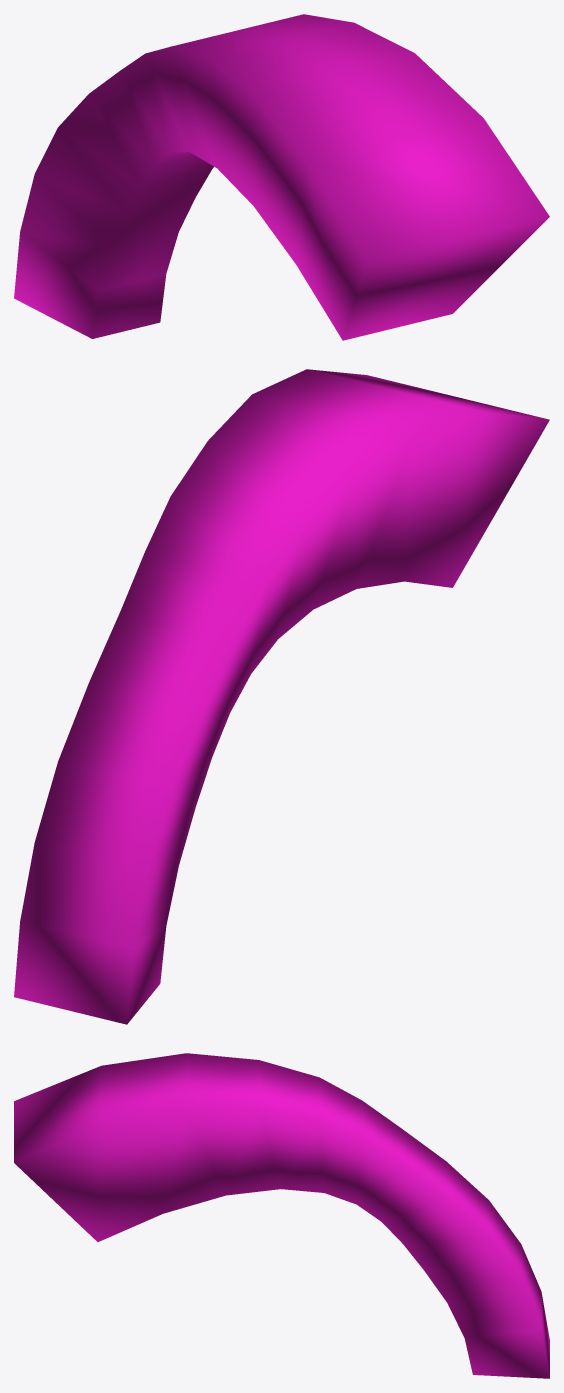
Rendered from Punk_Hair.fbx.
3 views of the same model, one above another, from view 1: azimuth 30°, elevation 25°; view 2: azimuth 150°, elevation 25°; view 3: azimuth 270°, elevation 25° (orthographic). The views are drawn at different scales.
Parts seen in each view (by area): view 1: Punk_Hair; view 2: Punk_Hair; view 3: Punk_Hair.
Boxes of the visible parts, bbox=[...] form: Punk_Hair: bbox=[14, 14, 549, 340]; Punk_Hair: bbox=[14, 369, 549, 1024]; Punk_Hair: bbox=[14, 1053, 549, 1378].
Size of the model in its own units: 39.05 by 83.52 by 143.
